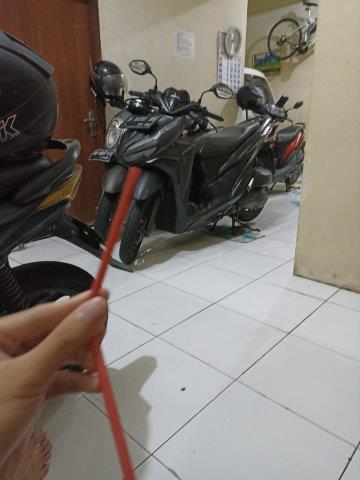sedotan: (86, 169, 137, 480)
